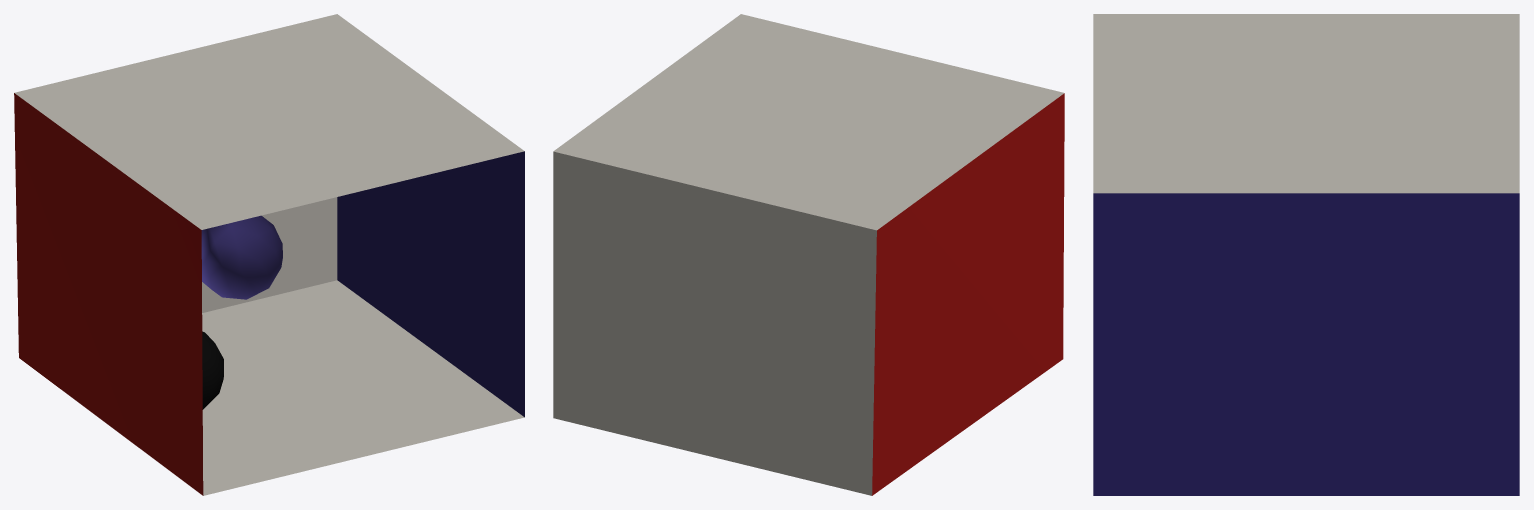
File: CornellBox-Sphere-327.obj
3 views of the same model, side by side, from view 1: azimuth 30°, elevation 25°; view 2: azimuth 150°, elevation 25°; view 3: azimuth 270°, elevation 25° (orthographic). The views are drawn at different scales.
Visible parts, largest first — view 1: ceiling, leftWall, floor, rightWall, backWall, leftSphere, rightSphere; view 2: backWall, ceiling, leftWall; view 3: rightWall, ceiling.
Boxes of the visible parts, <box> form: ceiling: <box>14,14,524,229</box>; leftWall: <box>14,93,203,495</box>; floor: <box>202,280,524,495</box>; rightWall: <box>337,151,524,417</box>; backWall: <box>202,197,337,312</box>; leftSphere: <box>201,215,282,299</box>; rightSphere: <box>202,331,223,409</box>; backWall: <box>553,151,876,495</box>; ceiling: <box>553,14,1064,230</box>; leftWall: <box>872,93,1064,495</box>; rightWall: <box>1093,193,1519,495</box>; ceiling: <box>1093,14,1519,193</box>.
Size of the model in its own units: 2.02 by 1.59 by 2.03.
